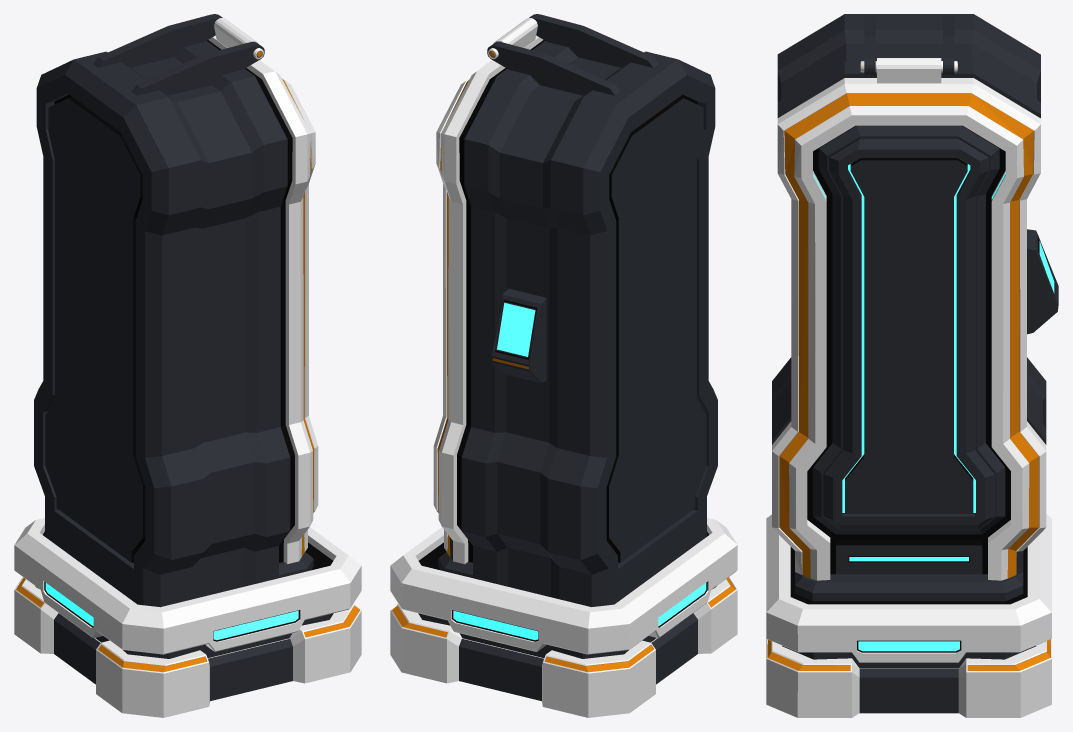
File: cryo_pod.glb
The picture shows the model from 3 angles, left to right: view 1: azimuth 30°, elevation 25°; view 2: azimuth 150°, elevation 25°; view 3: azimuth 270°, elevation 25°; orthographic projection. The views are drawn at different scales.
Parts seen in each view (by area): view 1: SM_Cryogenic_Stasis_Chamber_Body.001, SM_Cryogenic_Stasis_Chamber_Door.001; view 2: SM_Cryogenic_Stasis_Chamber_Body.001, SM_Cryogenic_Stasis_Chamber_Door.001; view 3: SM_Cryogenic_Stasis_Chamber_Door.001, SM_Cryogenic_Stasis_Chamber_Body.001.
Boxes of the visible parts, x1,y1,x2,y2 form: SM_Cryogenic_Stasis_Chamber_Body.001: [14, 14, 361, 717]; SM_Cryogenic_Stasis_Chamber_Door.001: [208, 18, 318, 564]; SM_Cryogenic_Stasis_Chamber_Body.001: [390, 14, 737, 717]; SM_Cryogenic_Stasis_Chamber_Door.001: [433, 18, 543, 564]; SM_Cryogenic_Stasis_Chamber_Door.001: [772, 58, 1046, 580]; SM_Cryogenic_Stasis_Chamber_Body.001: [766, 14, 1058, 717].
Bounding box in the file's own units: 1 × 2.41 × 1.02.
